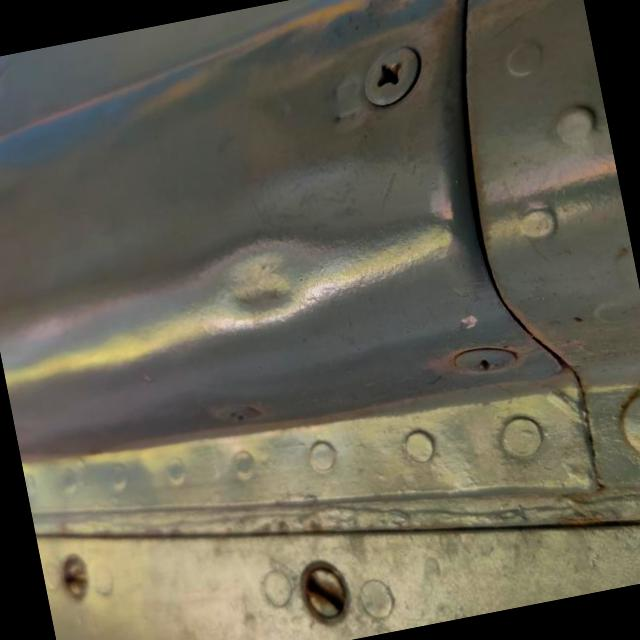dent: (184, 207, 342, 346)
